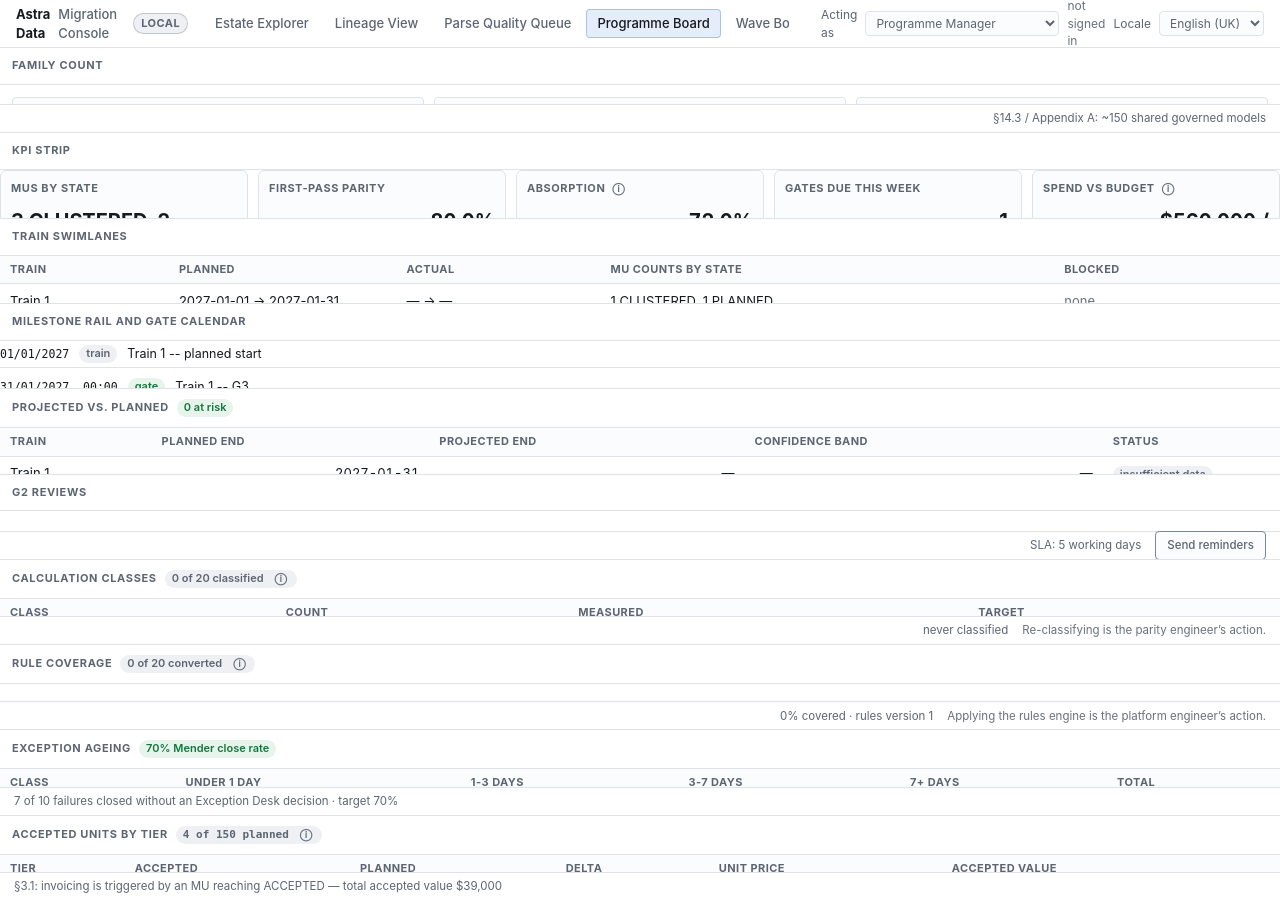
the shell › offers the Wave Board as a surface
The image size is (1280, 900).
Click the button "Wave Board". click: click(773, 24)
box: [725,9,821,38]
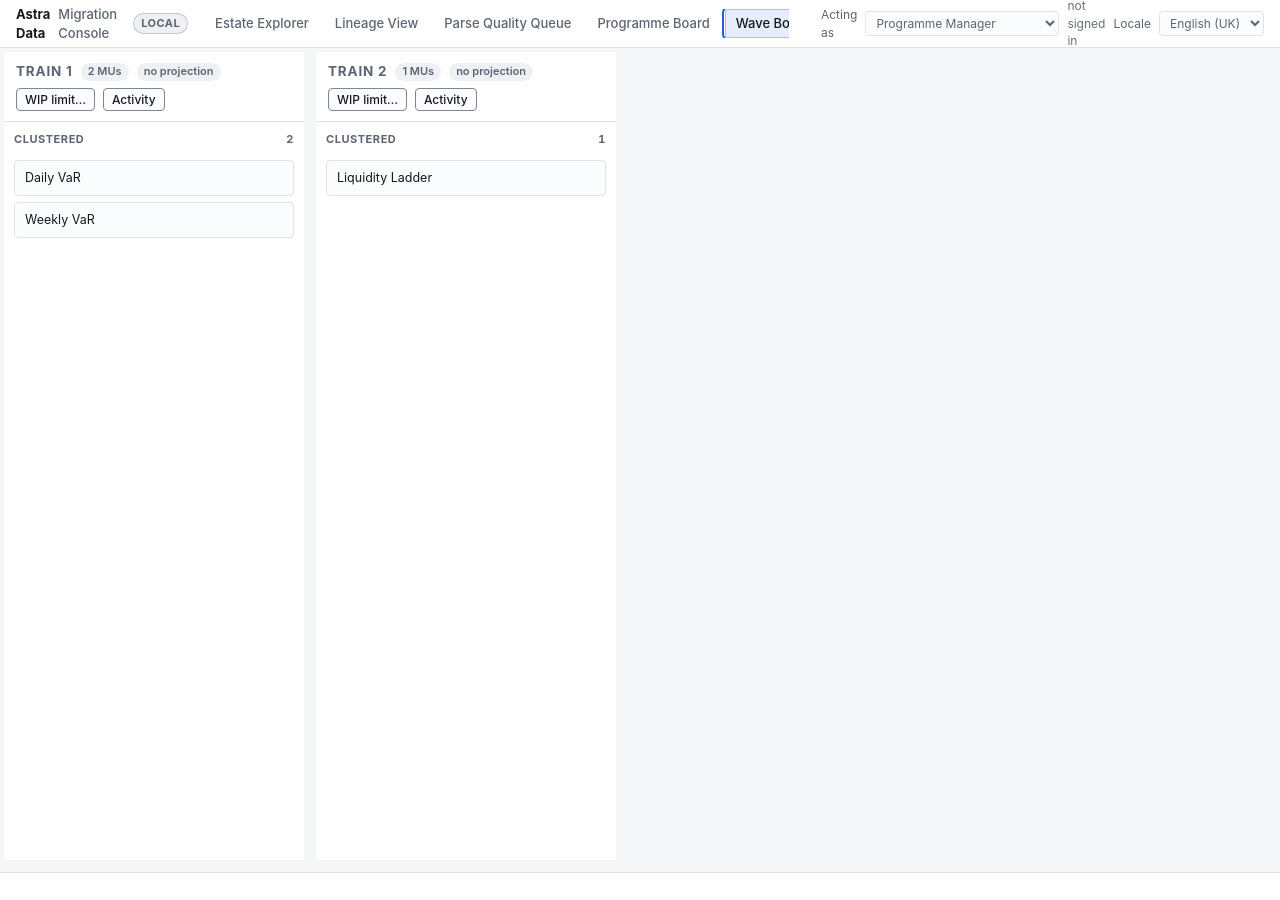
Check: the element "Train 1" is shown, box [4,52,304,860]
